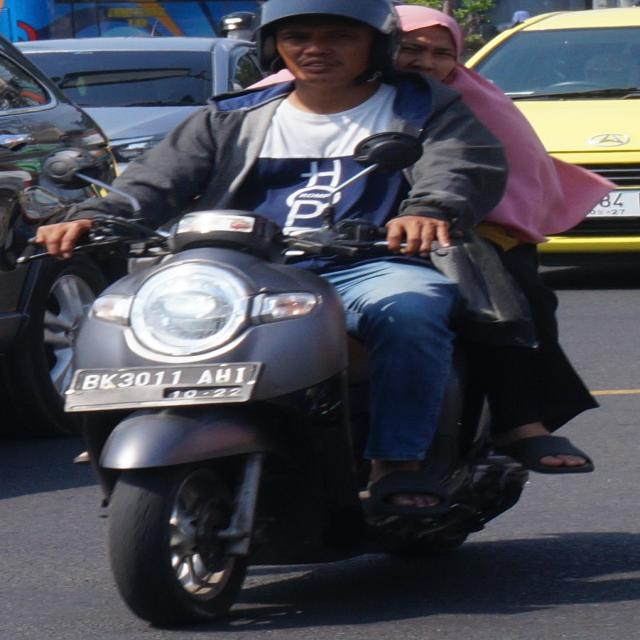Plate-Number: (62, 362, 266, 412)
